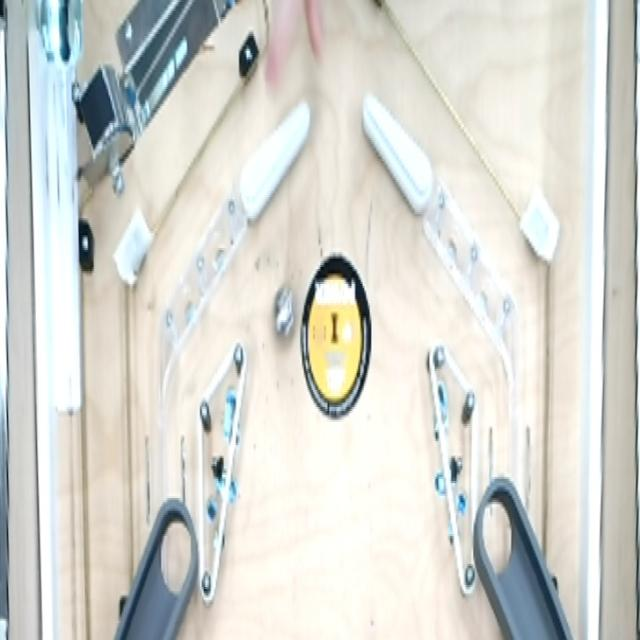ball: (270, 284, 297, 352)
flipper-left: (362, 89, 438, 228)
flipper-right: (239, 89, 314, 233)
